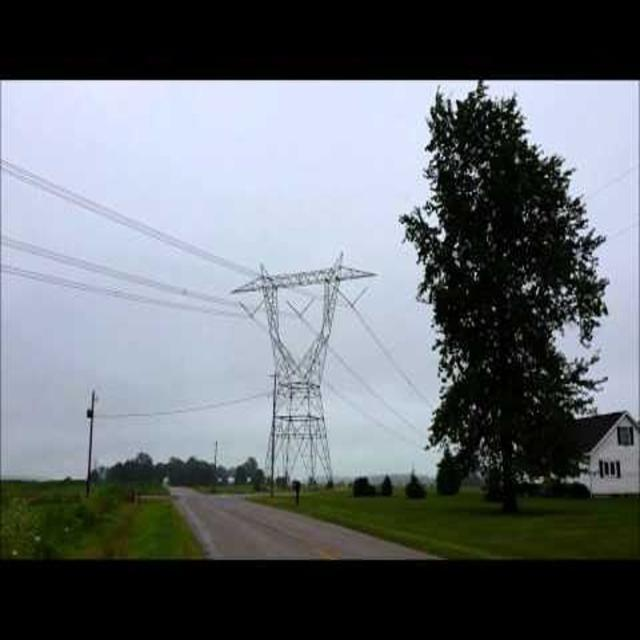non-critical vegetation: (238, 257, 362, 491)
utility poles: (363, 79, 597, 511)
